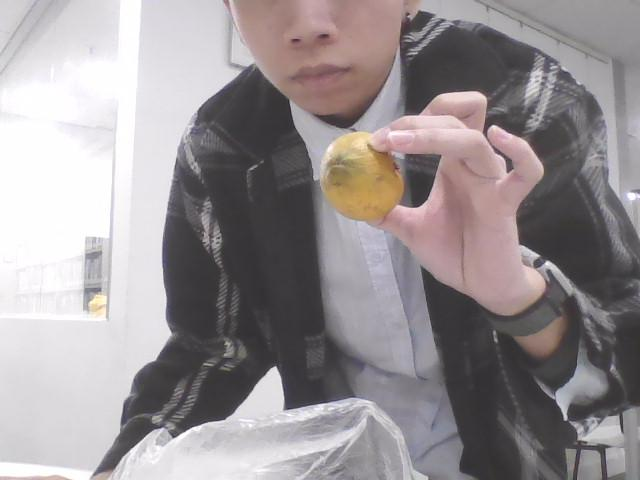lemon: (321, 131, 405, 221)
